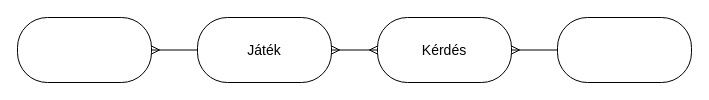
This 709x100 diagram has some shape labels left out. Here are the shapes that lost their labels. From the top down, the centre of each, then its label:
At (84,49): "Felhasználó".
At (624,49): "Pont".
